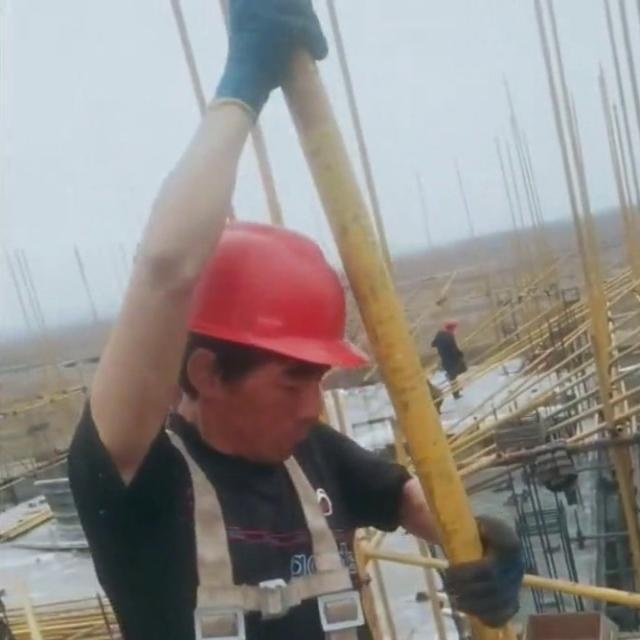Arnes_seguridad: (148, 420, 379, 639)
